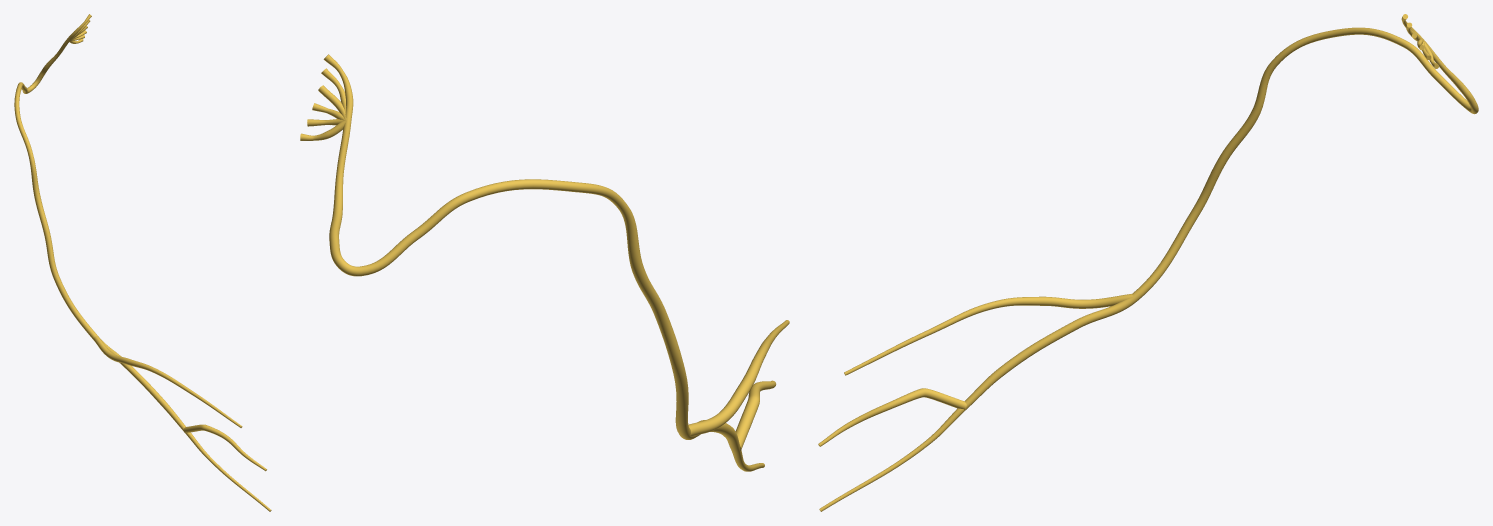
The model's file is Hypoglossal_nerve_XII_right.glb.
The picture shows the model from 3 angles, left to right: view 1: azimuth 30°, elevation 25°; view 2: azimuth 150°, elevation 25°; view 3: azimuth 270°, elevation 25°; orthographic projection. The views are drawn at different scales.
Visible parts, largest first — view 1: Hyppoglossal_nerve_(XII).r_BezierCurve.524; view 2: Hyppoglossal_nerve_(XII).r_BezierCurve.524; view 3: Hyppoglossal_nerve_(XII).r_BezierCurve.524.
Boxes of the visible parts, bbox=[...] form: Hyppoglossal_nerve_(XII).r_BezierCurve.524: bbox=[14, 14, 271, 511]; Hyppoglossal_nerve_(XII).r_BezierCurve.524: bbox=[300, 54, 789, 471]; Hyppoglossal_nerve_(XII).r_BezierCurve.524: bbox=[818, 14, 1478, 511].
Size of the model in its own units: 0.0207 by 0.0617 by 0.0723.
